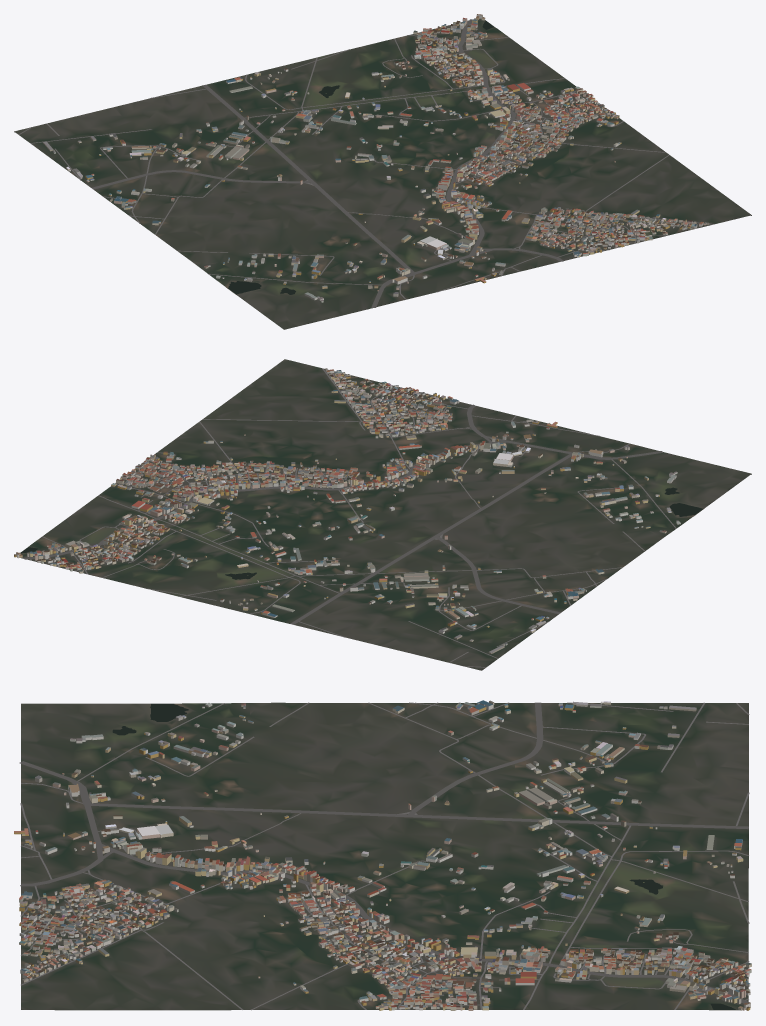
3 renders of one model, top to bottom at view 1: azimuth 30°, elevation 25°; view 2: azimuth 150°, elevation 25°; view 3: azimuth 270°, elevation 25°, orthographic. The views are drawn at different scales.
Visible parts, largest first — view 1: ground, buildings, roads, water; view 2: ground, buildings, roads, water; view 3: ground, buildings, roads, water.
Part boxes in pixels (<box>): ground: <box>14,18,751,329</box>; buildings: <box>43,14,709,302</box>; roads: <box>18,19,714,307</box>; water: <box>228,21,493,294</box>; ground: <box>14,359,751,670</box>; buildings: <box>14,368,680,653</box>; roads: <box>24,368,676,667</box>; water: <box>20,487,703,579</box>; ground: <box>21,702,748,1010</box>; buildings: <box>14,700,751,1010</box>; roads: <box>19,702,749,1010</box>; water: <box>112,703,735,1009</box>.
Bounding box in the file's own units: 1406 × 24.56 × 1421.
